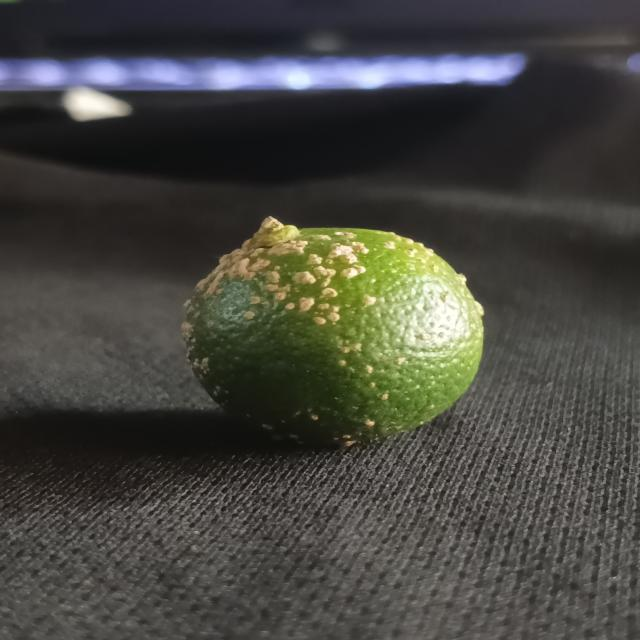scab: (180, 227, 490, 450)
